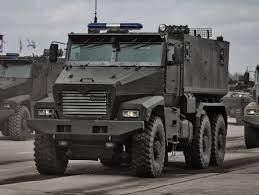armored_car: (32, 17, 236, 175), (2, 51, 64, 142), (245, 59, 259, 151)
